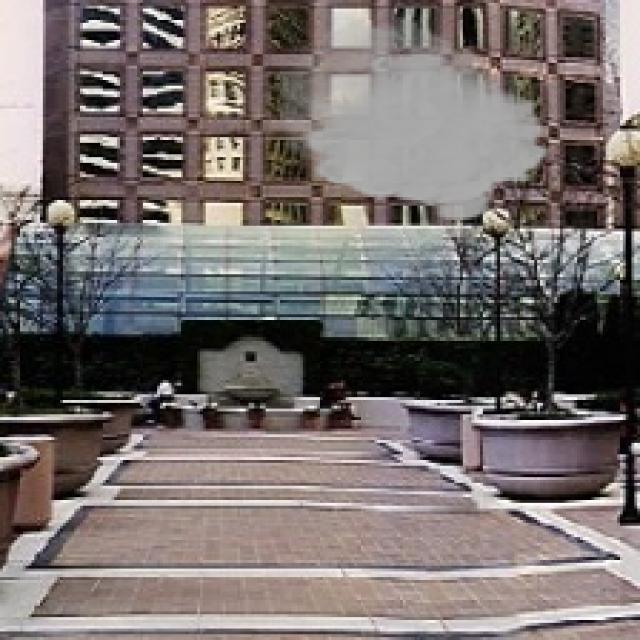Smoke: (280, 8, 554, 223)
